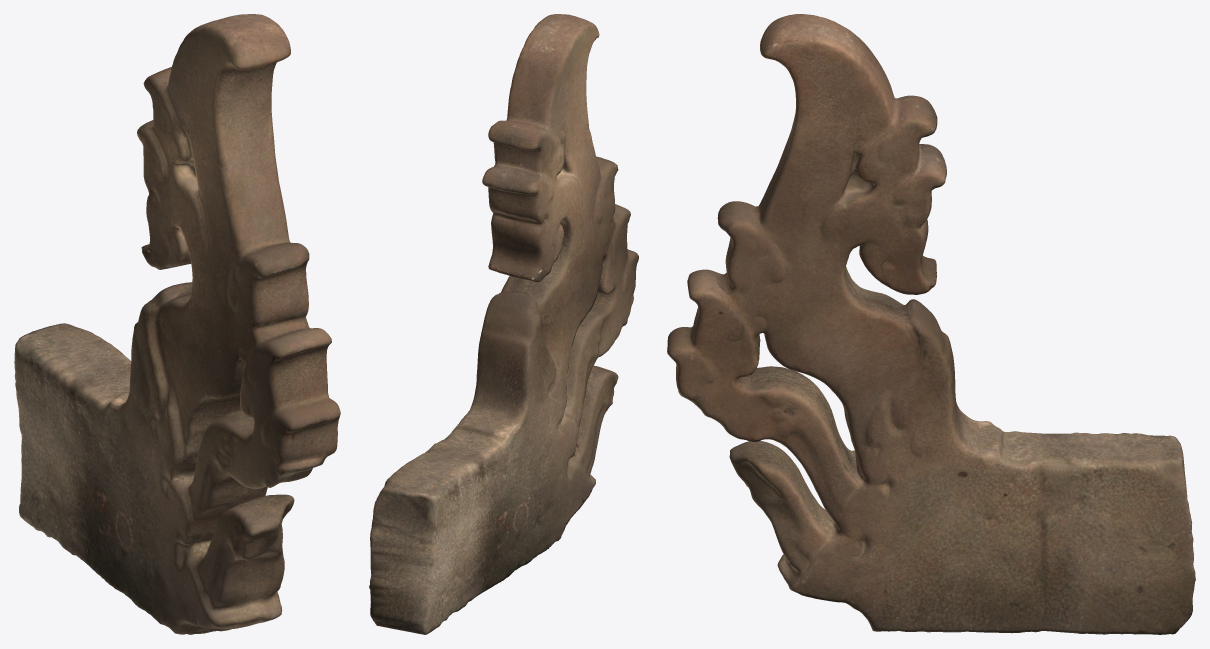
The model's file is 26_vattrangtri_final.glb.
3 renders of one model, left to right at view 1: azimuth 30°, elevation 25°; view 2: azimuth 150°, elevation 25°; view 3: azimuth 270°, elevation 25°, orthographic. The views are drawn at different scales.
Size of the model in its own units: 0.0956 by 0.7552 by 0.6077.
Materials: 1 (1 with a texture image).
